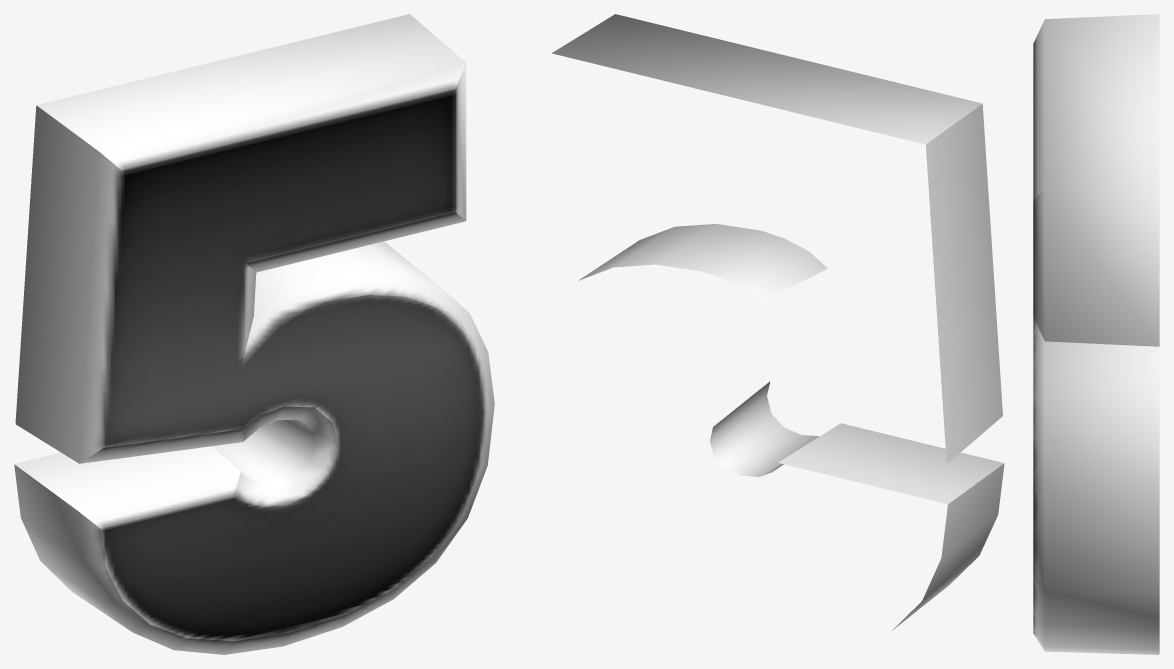
File: bbl_score_model__score_5a.glb
3 renders of one model, left to right at view 1: azimuth 30°, elevation 25°; view 2: azimuth 150°, elevation 25°; view 3: azimuth 270°, elevation 25°, orthographic. The views are drawn at different scales.
Visible parts, largest first — view 1: polygon1, polygon0; view 2: polygon0; view 3: polygon0.
Boxes of the visible parts, left/top/right/bottom form: polygon1: left=101, top=89, right=483, bottom=641; polygon0: left=14, top=14, right=494, bottom=654; polygon0: left=552, top=14, right=1004, bottom=630; polygon0: left=1033, top=14, right=1159, bottom=654.
Bounding box in the file's own units: 4.07 × 5.01 × 1.1.
Materials: 2 (2 with a texture image).
